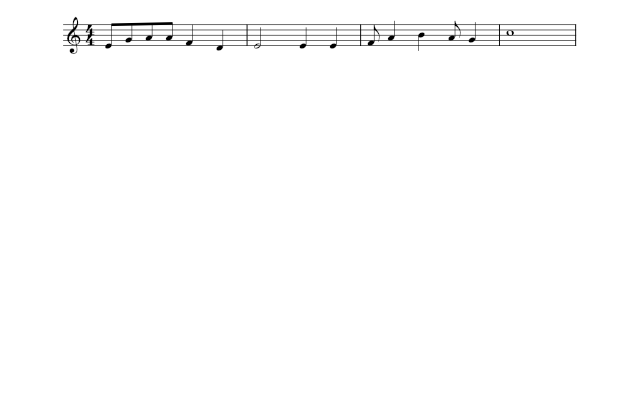Treble Clef: (61, 12, 82, 58)
